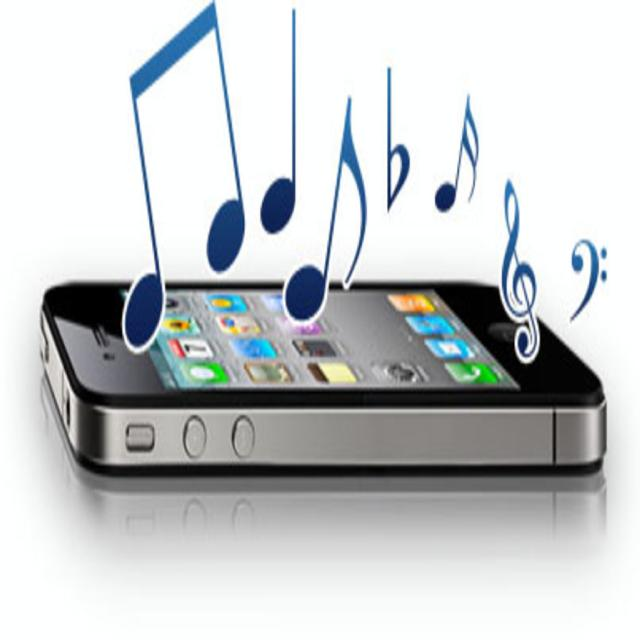Mobile-phone: (38, 200, 627, 486)
